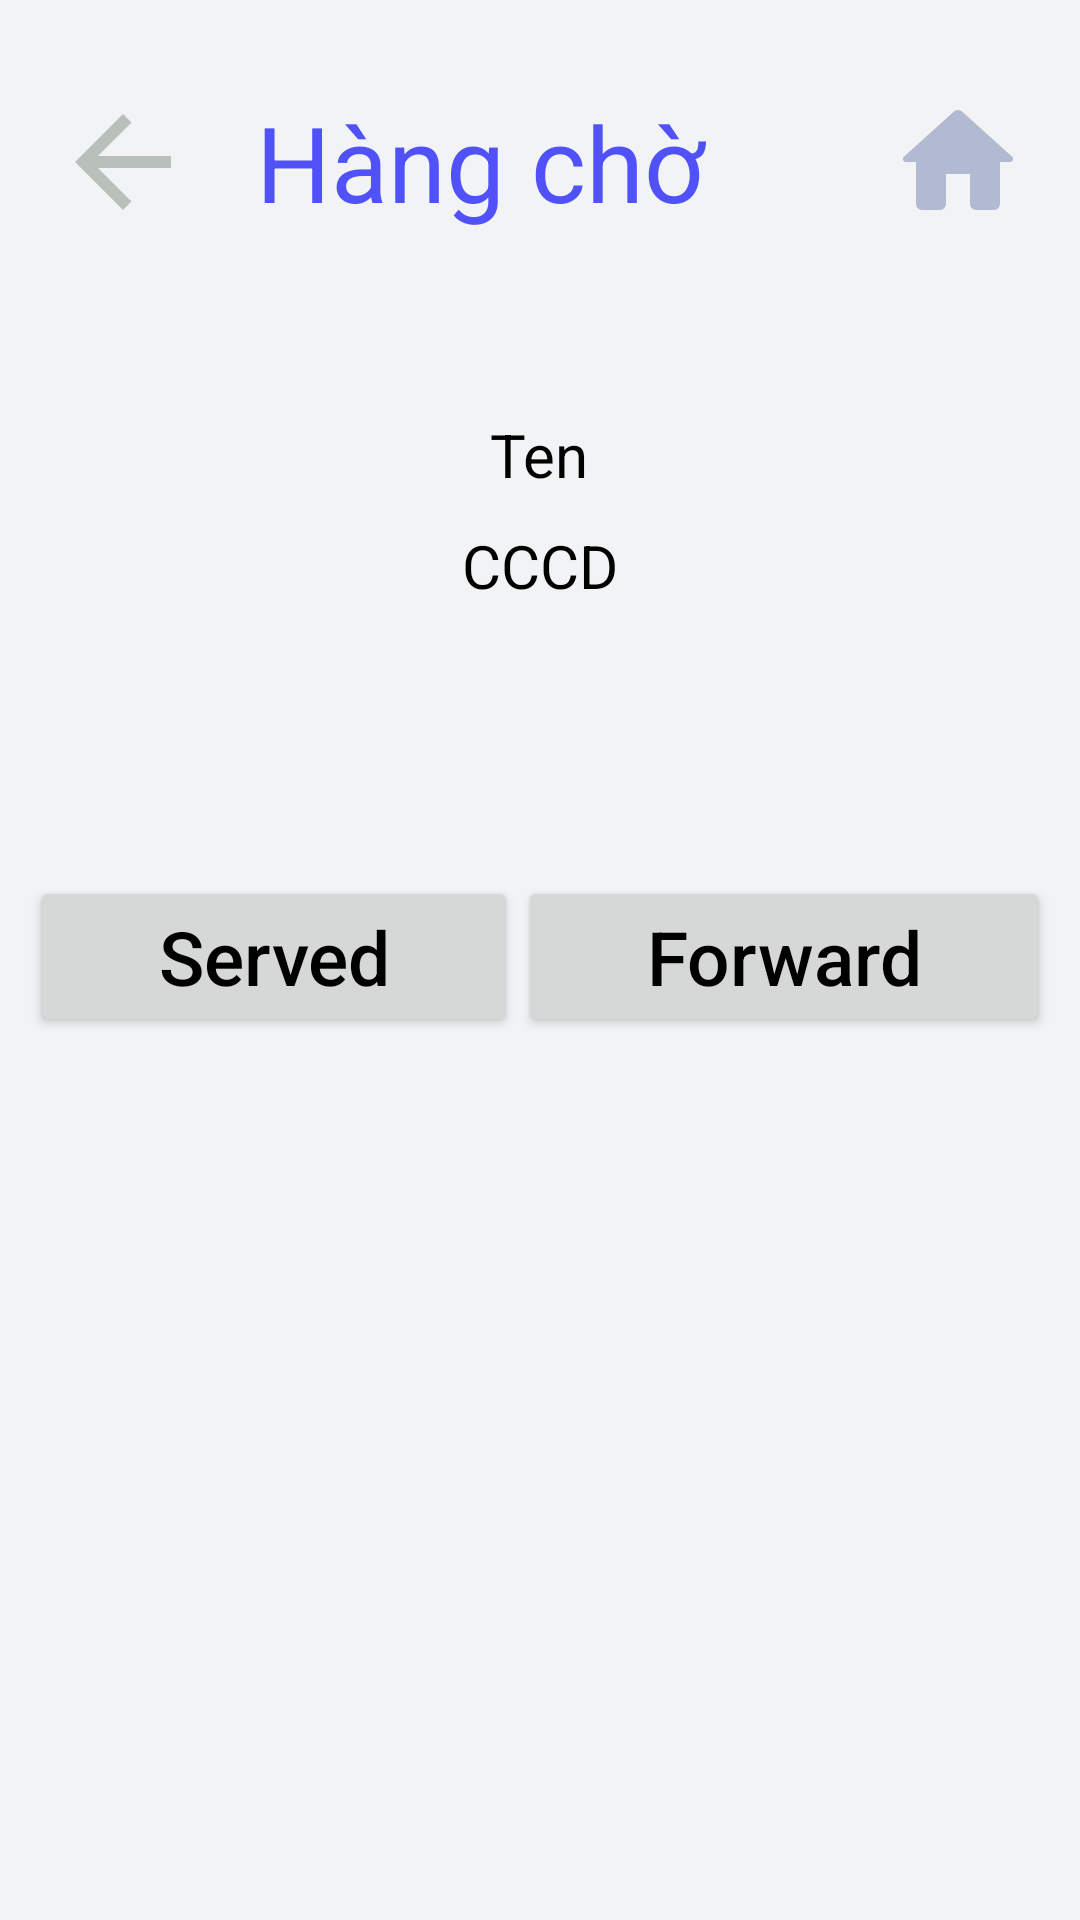

Locate icon controls on the screen. Image size 1080×1920, boxes as rect(x1, y1, x2, y2).
back: rect(75, 114, 171, 210)
home: rect(903, 110, 1013, 210)
